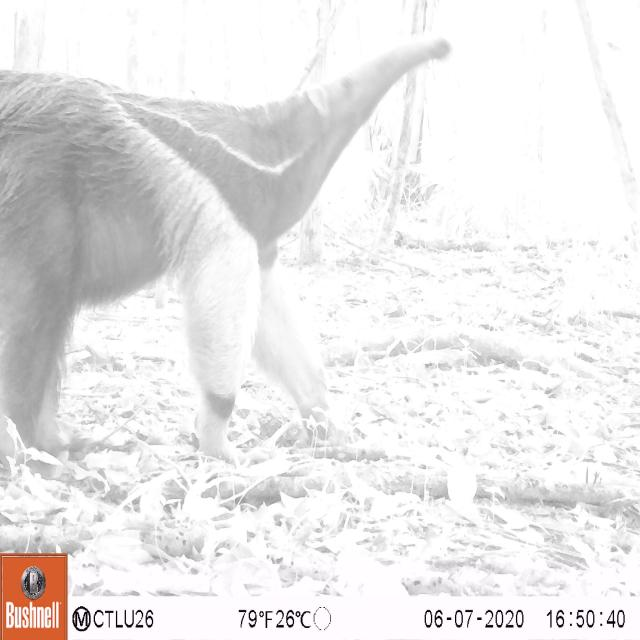Giant Anteater: (1, 20, 459, 472)
